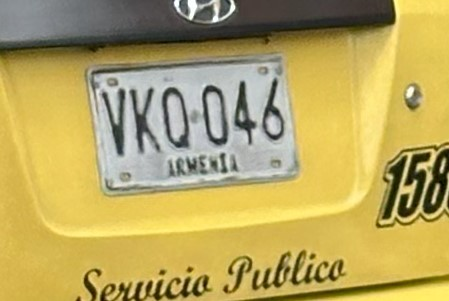number plate: (88, 55, 297, 193)
